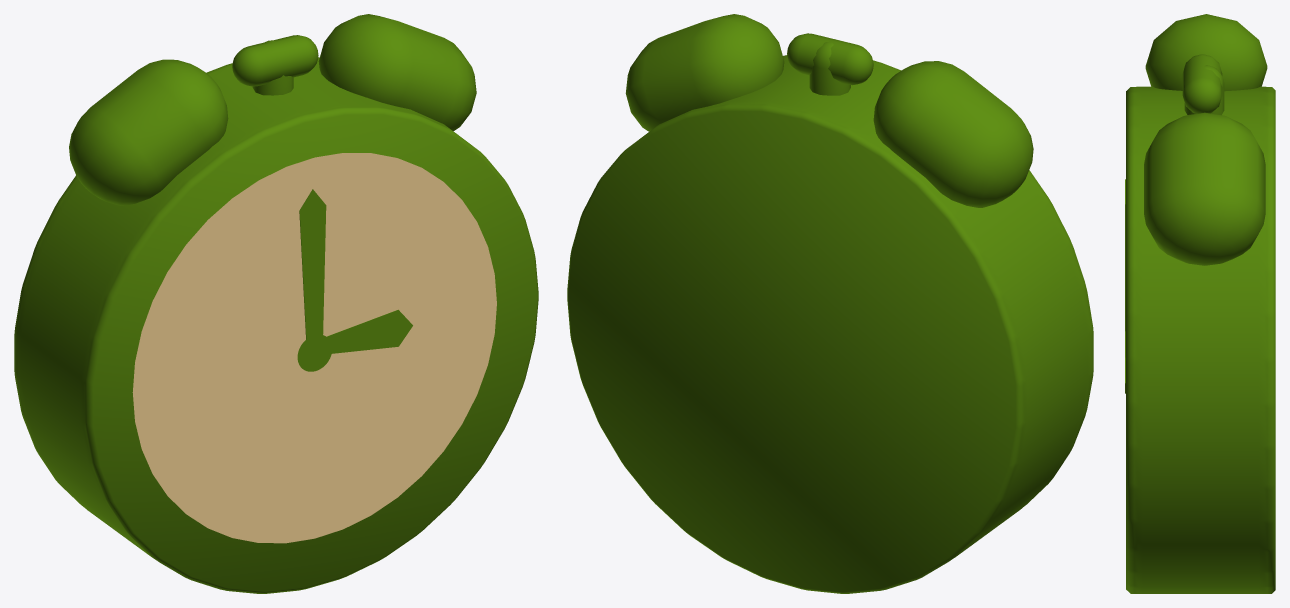
File: clock.FBX
3 renders of one model, left to right at view 1: azimuth 30°, elevation 25°; view 2: azimuth 150°, elevation 25°; view 3: azimuth 270°, elevation 25°, orthographic. The views are drawn at different scales.
Visible parts, largest first — view 1: Cylinder002, Cylinder001, Capsule003, Capsule002, Line002, Capsule004, Line001, Cylinder003; view 2: Cylinder001, Capsule003, Capsule002, Capsule004, Capsule005; view 3: Cylinder001, Capsule002, Capsule003, Capsule004, Capsule005.
Boxes of the visible parts, x1,y1,x2,y2 form: Cylinder002: (132, 153, 496, 543); Cylinder001: (14, 57, 538, 593); Capsule003: (69, 59, 228, 205); Capsule002: (318, 14, 476, 130); Line002: (299, 189, 326, 339); Capsule004: (232, 35, 318, 86); Line001: (327, 309, 412, 353); Cylinder003: (297, 334, 332, 371); Cylinder001: (567, 55, 1093, 593); Capsule003: (873, 61, 1033, 207); Capsule002: (625, 14, 784, 131); Capsule004: (787, 33, 873, 85); Capsule005: (809, 41, 850, 95); Cylinder001: (1126, 86, 1275, 593); Capsule002: (1144, 112, 1265, 265); Capsule003: (1145, 14, 1267, 91); Capsule004: (1182, 54, 1222, 113); Capsule005: (1184, 65, 1224, 114).
Size of the model in its own units: 33.93 by 37.2 by 10.25.
